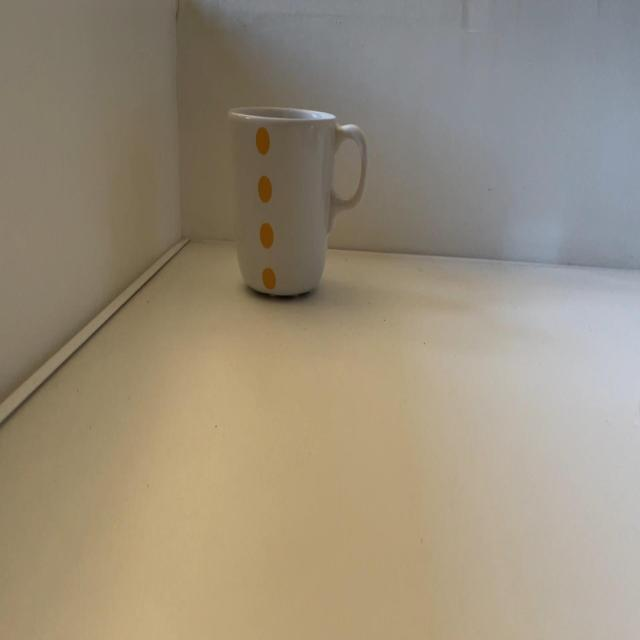cup: (229, 110, 369, 299)
